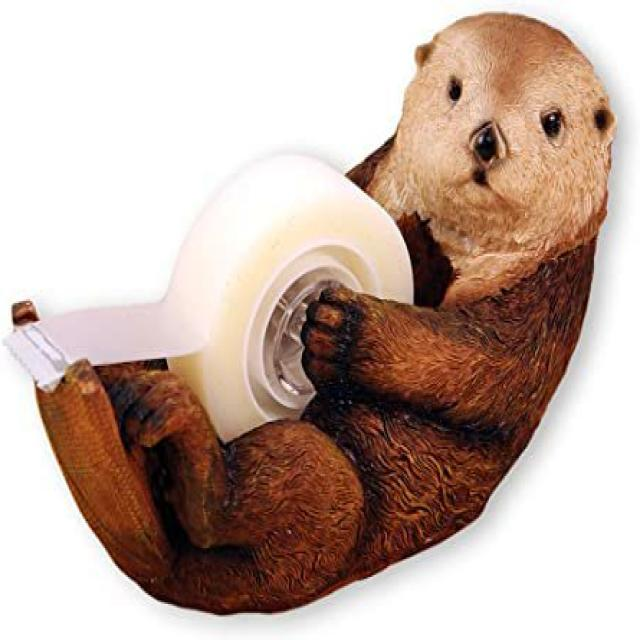otter: (39, 13, 616, 611)
